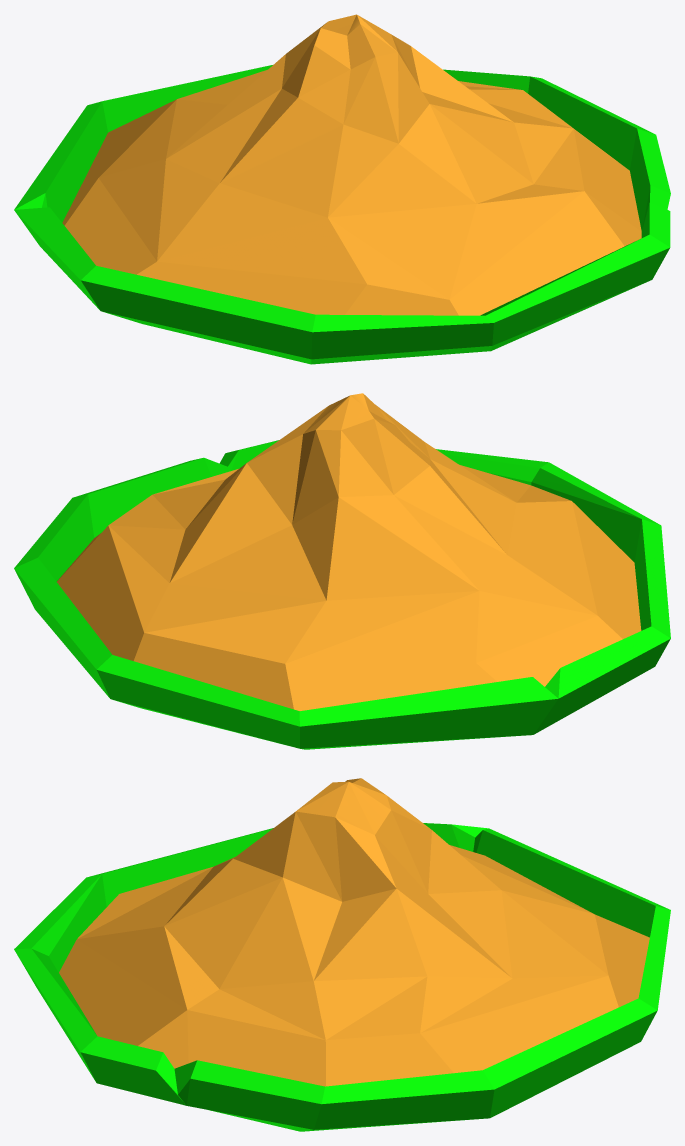
File: SM_Spice_Plate_Full_Fantasy.fbx
The picture shows the model from 3 angles, top to bottom: view 1: azimuth 30°, elevation 25°; view 2: azimuth 150°, elevation 25°; view 3: azimuth 270°, elevation 25°; orthographic projection. The views are drawn at different scales.
Parts seen in each view (by area): view 1: spice-plate-full-fantasy; view 2: spice-plate-full-fantasy; view 3: spice-plate-full-fantasy.
Part boxes in pixels (bbox=[...]): spice-plate-full-fantasy: bbox=[14, 14, 670, 364]; spice-plate-full-fantasy: bbox=[14, 393, 670, 749]; spice-plate-full-fantasy: bbox=[14, 778, 670, 1131].
Size of the model in its own units: 0.5435 by 0.2207 by 0.5275.
